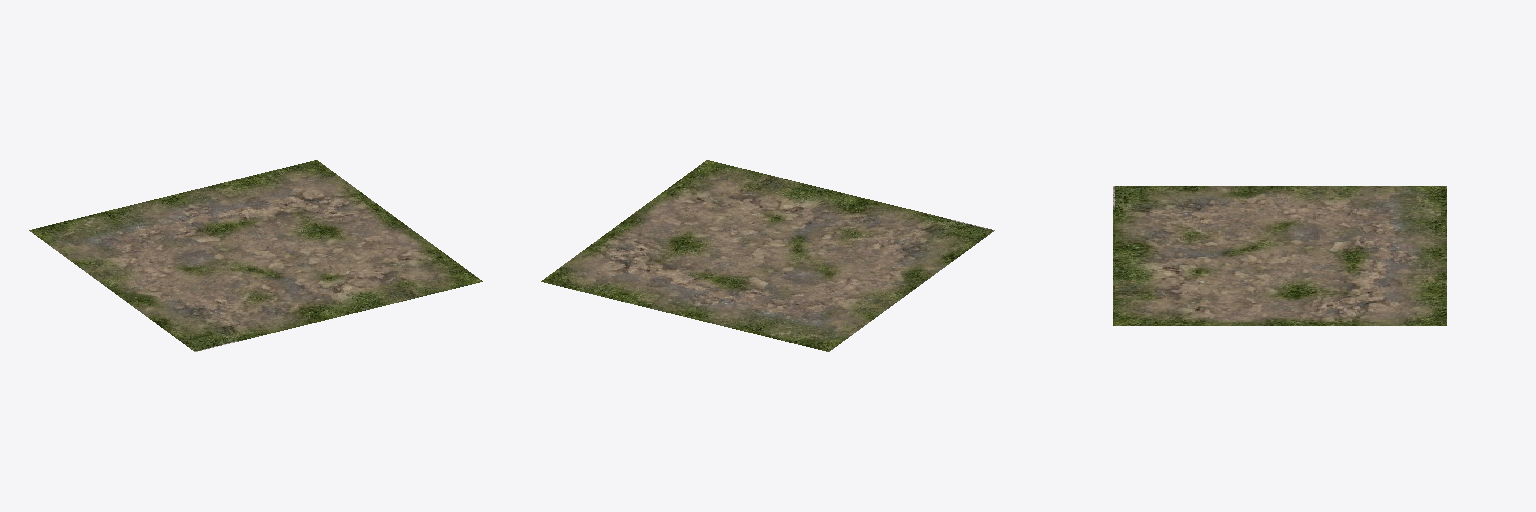
The picture shows the model from 3 angles: view 1: azimuth 30°, elevation 25°; view 2: azimuth 150°, elevation 25°; view 3: azimuth 270°, elevation 25°; orthographic projection.
Visible parts, largest first — view 1: mudgrass; view 2: mudgrass; view 3: mudgrass.
Part boxes in pixels (left/top/right/bottom): mudgrass: left=29, top=160, right=482, bottom=351; mudgrass: left=541, top=160, right=994, bottom=351; mudgrass: left=1113, top=186, right=1446, bottom=325.
Size of the model in its own units: 76 by 0 by 76.
Materials: 1 (1 with a texture image).